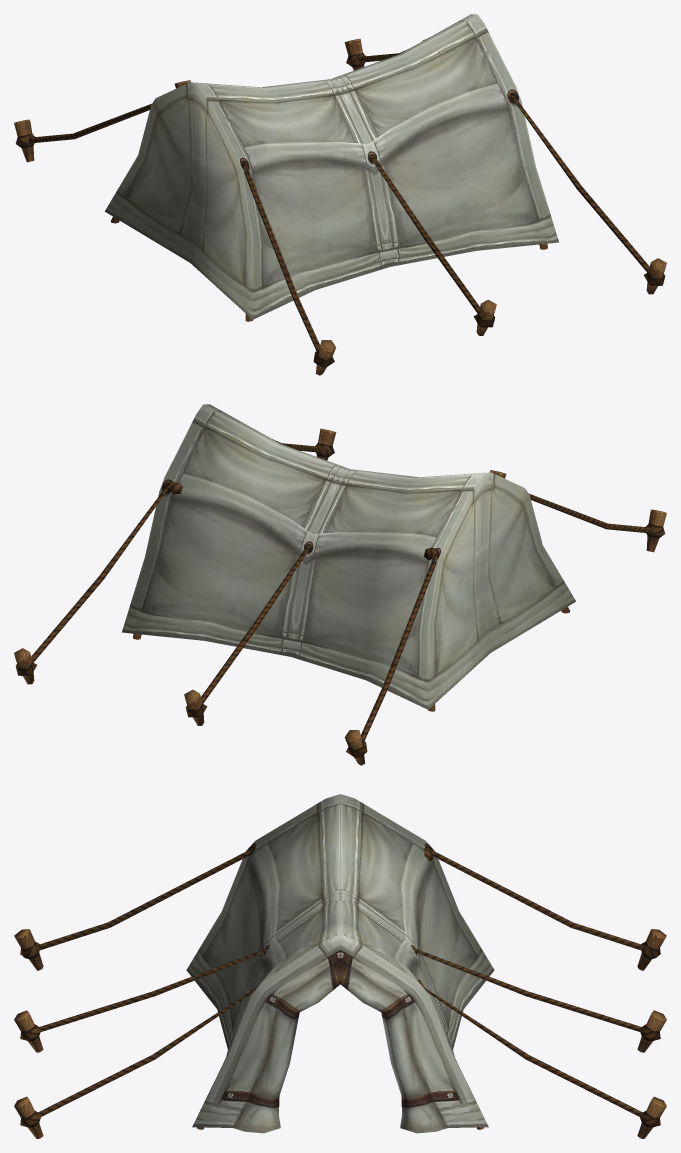
The model's file is tent.glb.
3 views of the same model, one above another, from view 1: azimuth 30°, elevation 25°; view 2: azimuth 150°, elevation 25°; view 3: azimuth 270°, elevation 25° (orthographic). The views are drawn at different scales.
Visible parts, largest first — view 1: tent_Geoset0; view 2: tent_Geoset0; view 3: tent_Geoset0.
Boxes of the visible parts, x1,y1,x2,y2 form: tent_Geoset0: (14,14,666,375); tent_Geoset0: (14,404,666,765); tent_Geoset0: (14,794,666,1138).
Size of the model in its own units: 8.72 by 4.37 by 13.46.
Materials: 1 (1 with a texture image).
